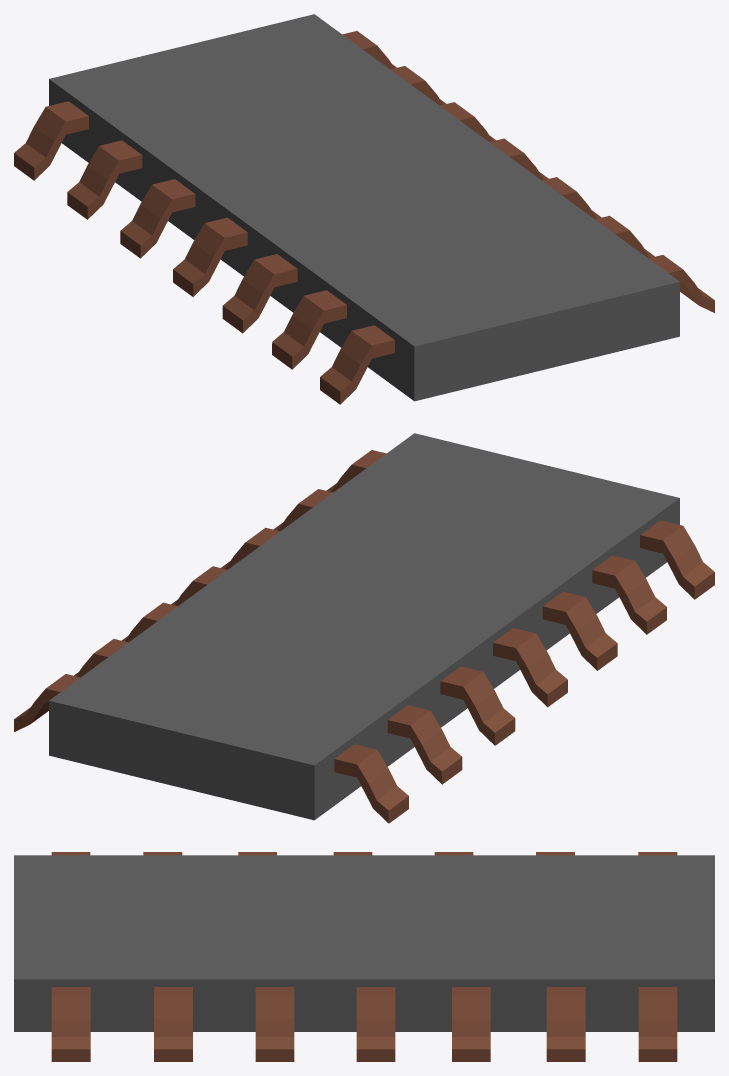
File: Modulo de microchips 1.fbx
The picture shows the model from 3 angles, top to bottom: view 1: azimuth 30°, elevation 25°; view 2: azimuth 150°, elevation 25°; view 3: azimuth 270°, elevation 25°; orthographic projection. The views are drawn at different scales.
Parts seen in each view (by area): view 1: Cube.000; view 2: Cube.000; view 3: Cube.000.
Boxes of the visible parts, x1,y1,x2,y2 form: Cube.000: (14,14,714,404); Cube.000: (14,433,714,823); Cube.000: (14,852,714,1061).
Bounding box in the file's own units: 347 × 52.47 × 585.
